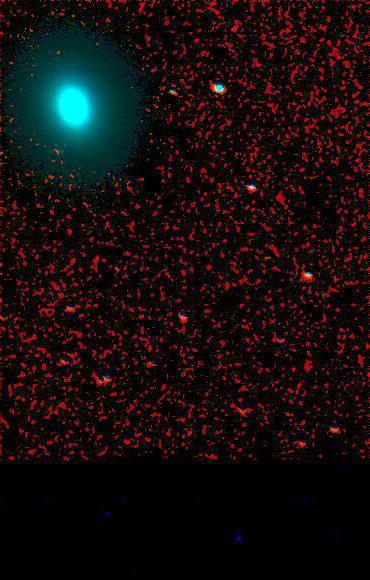star: (43, 37, 73, 67)
